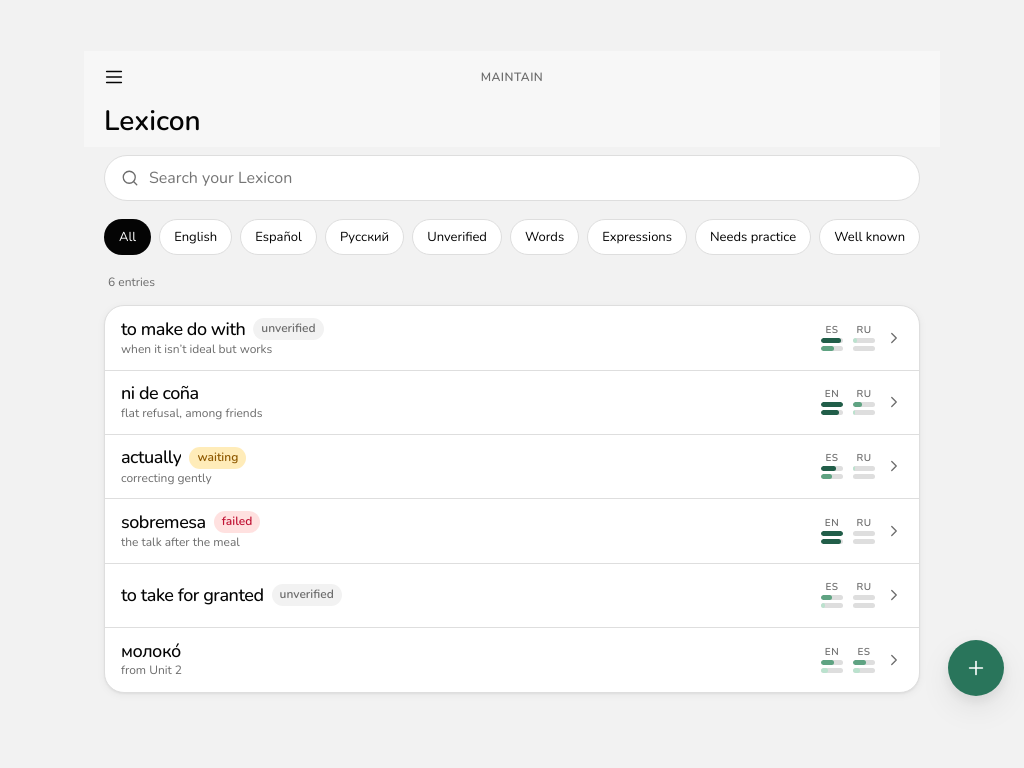
Test: the Lexicon › filters to words, and by mastery
Expected: the button "ni de coña flat refusal, among friends EN RU" is shown, [105,371,919,435]
What coordinates should you click on to do the following:
click the button "Words"
I would click on:
 (545, 237)
Its box is [510,215,579,259].
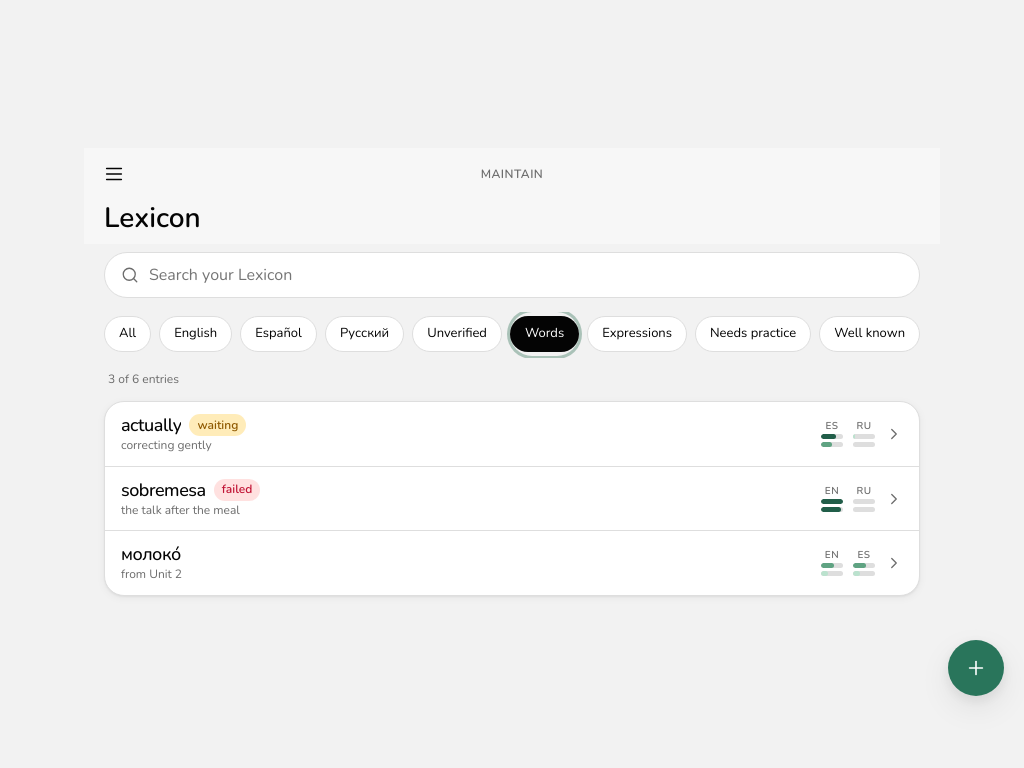
Expected: the button "sobremesa failed the talk after the meal EN RU" is shown, [105,467,919,532]
Result: the button "ni de coña" is gone
What coordinates should you click on to do the following:
click the button "Well known"
I would click on:
 (870, 334)
Its box is [819,312,920,356].
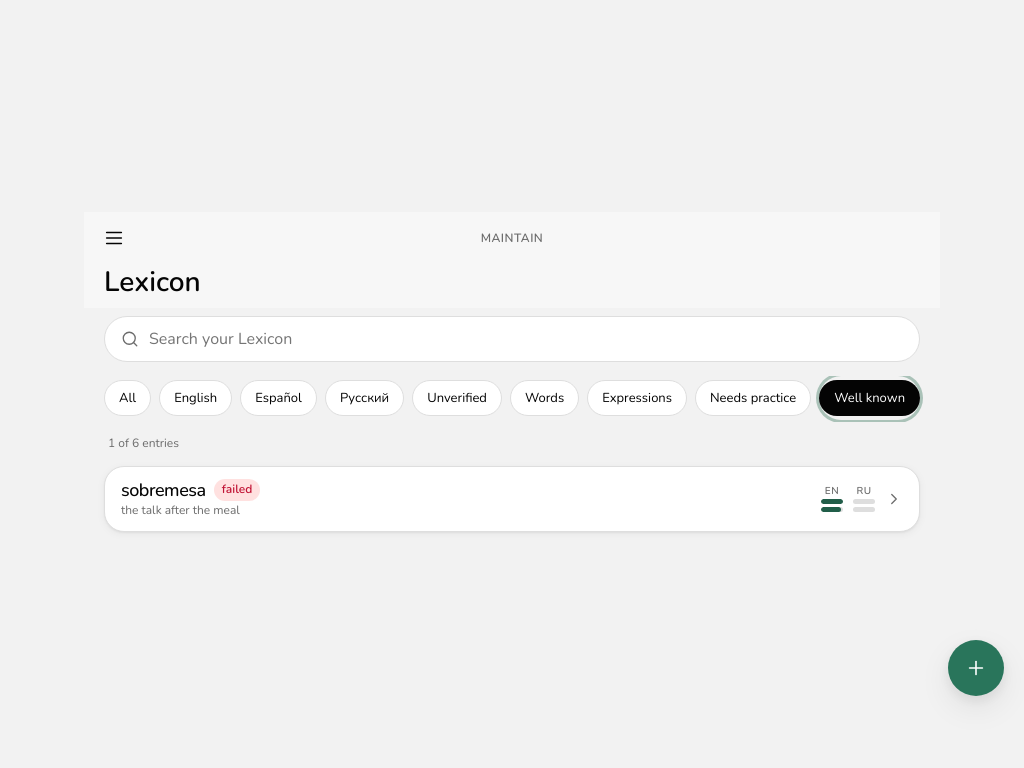
Expected: the button "sobremesa failed the talk after the meal EN RU" is shown, [105,467,919,531]
Result: the text "1 of 6 entries" is shown at [108,435,179,451]
